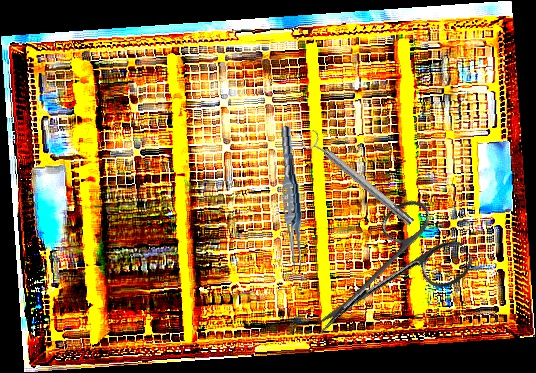Fixation Ring: (299, 127, 419, 233)
Iris Scissors: (287, 189, 479, 370)
Tissue Forceps: (274, 125, 309, 272)
